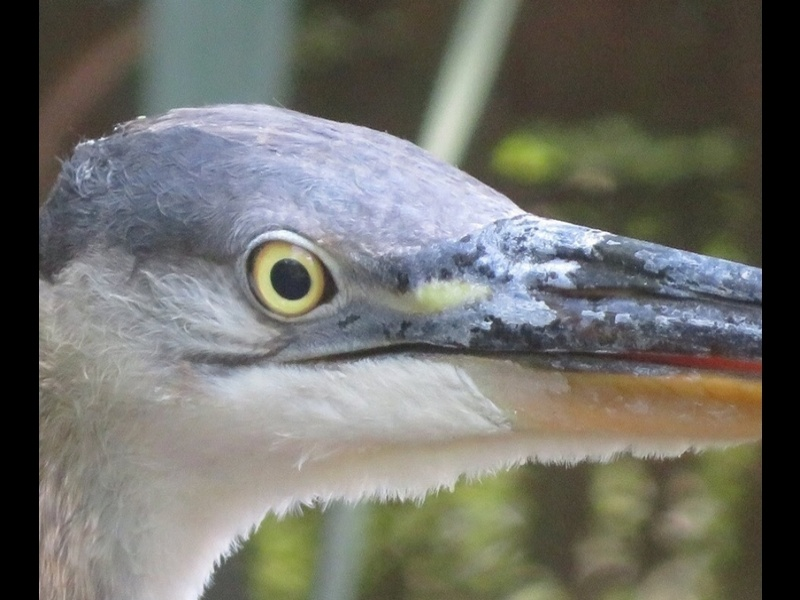heron: (40, 103, 757, 600)
